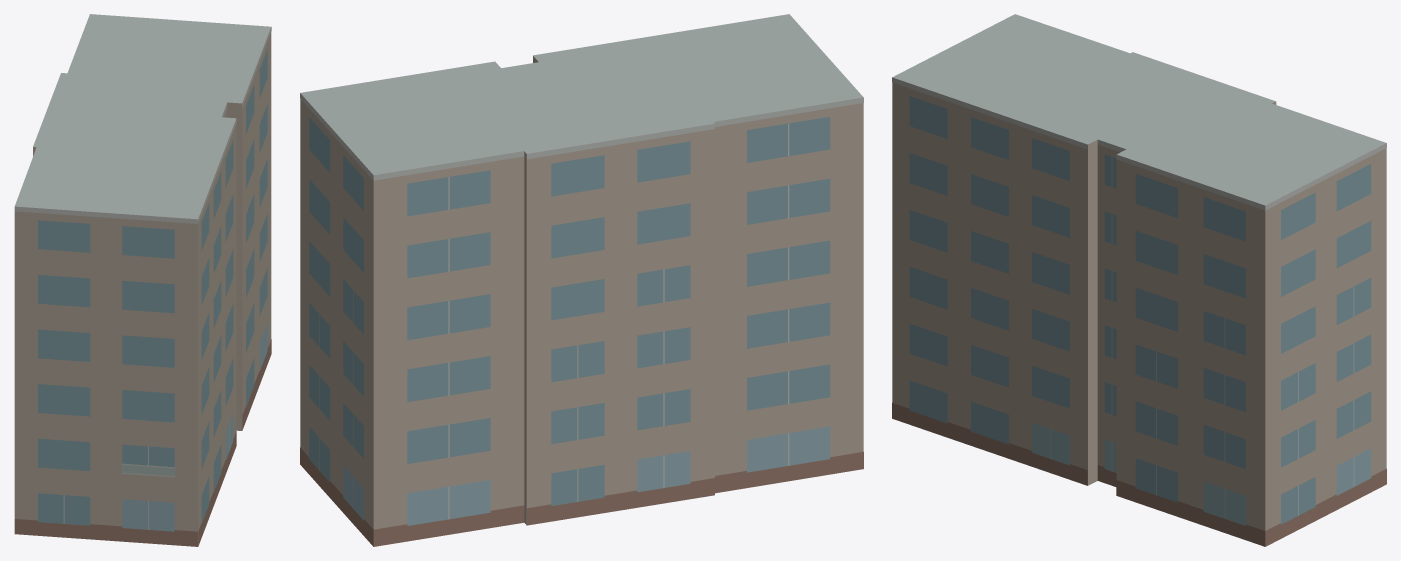
The model's file is survey-upis-32671778.glb.
3 renders of one model, left to right at view 1: azimuth 30°, elevation 25°; view 2: azimuth 150°, elevation 25°; view 3: azimuth 270°, elevation 25°, orthographic. The views are drawn at different scales.
Parts seen in each view (by area): view 1: survey-upis-32671778.tmp; view 2: survey-upis-32671778.tmp; view 3: survey-upis-32671778.tmp.
Boxes of the visible parts, x1,y1,x2,y2 form: survey-upis-32671778.tmp: [14, 14, 271, 546]; survey-upis-32671778.tmp: [300, 14, 863, 546]; survey-upis-32671778.tmp: [892, 14, 1386, 546].
Bounding box in the file's own units: 20.23 × 16.8 × 22.07.
